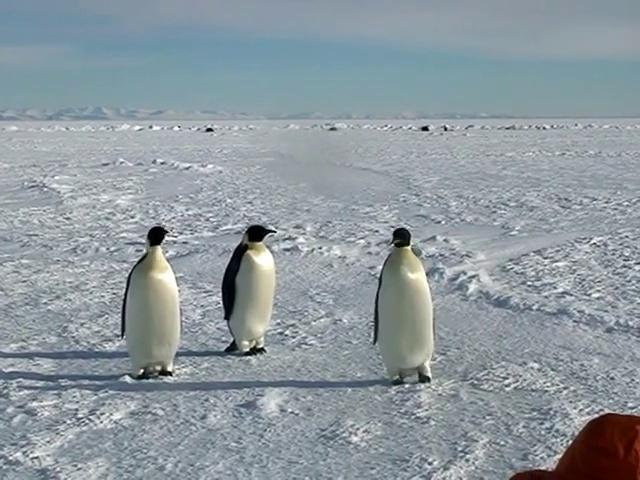animal: (374, 228, 433, 383)
